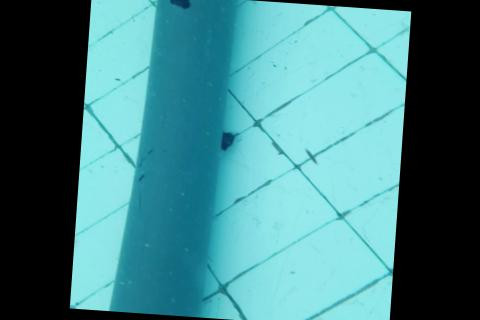kebocoran: (166, 0, 193, 10)
keretakan: (132, 139, 153, 211)
